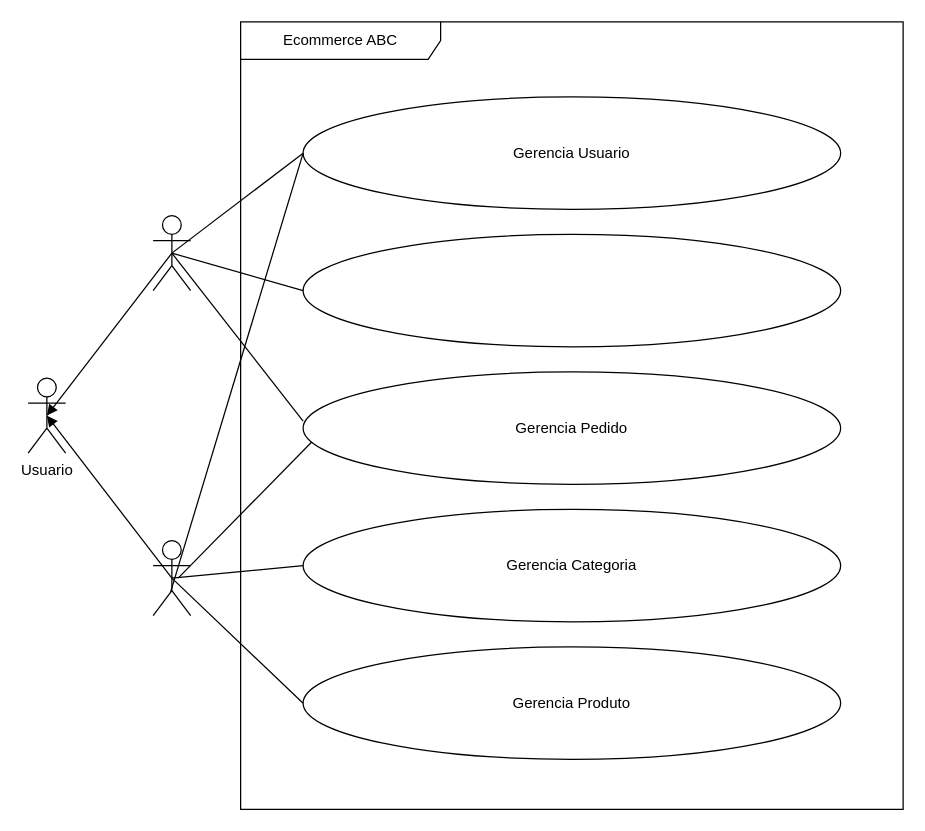
The diagram is 925 pixels wide and 831 high, and some of its shapes have lost their labels. The shapes that lost their labels are listed below. From the top down, each one's box as (x1, y1, x2, y2) in pixels, then its label:
(152, 214, 191, 291): Cliente
(302, 233, 841, 347): Gerencia Carrinho
(152, 539, 191, 616): Administrador
